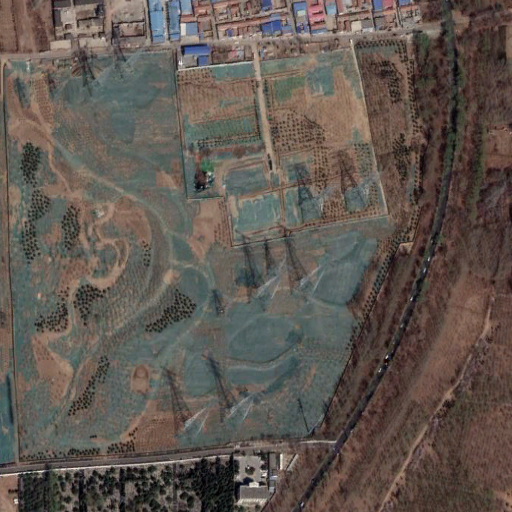cw: (7, 44, 391, 464)
